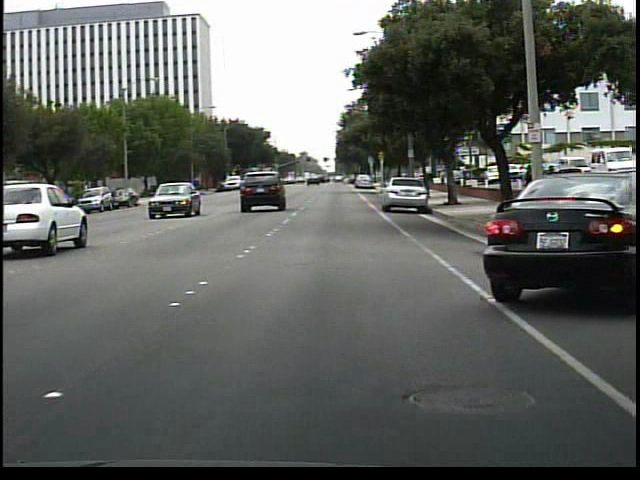person: (523, 160, 544, 218), (542, 158, 563, 205)
